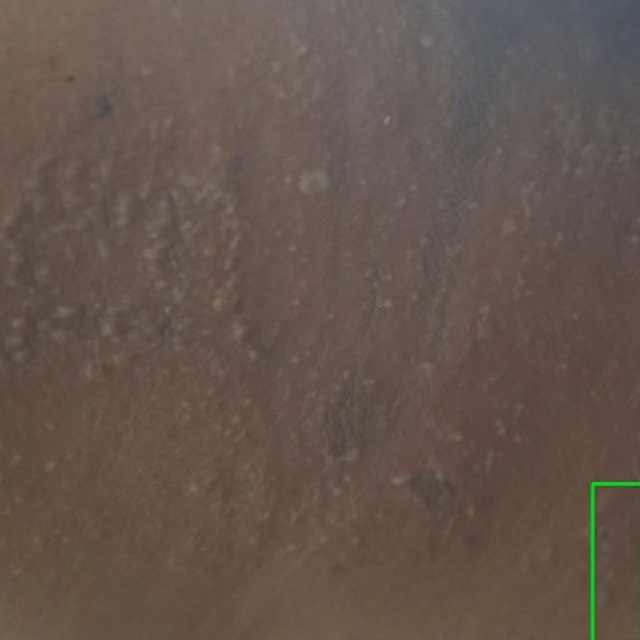Contact Dermatitis: (592, 483, 639, 639)
